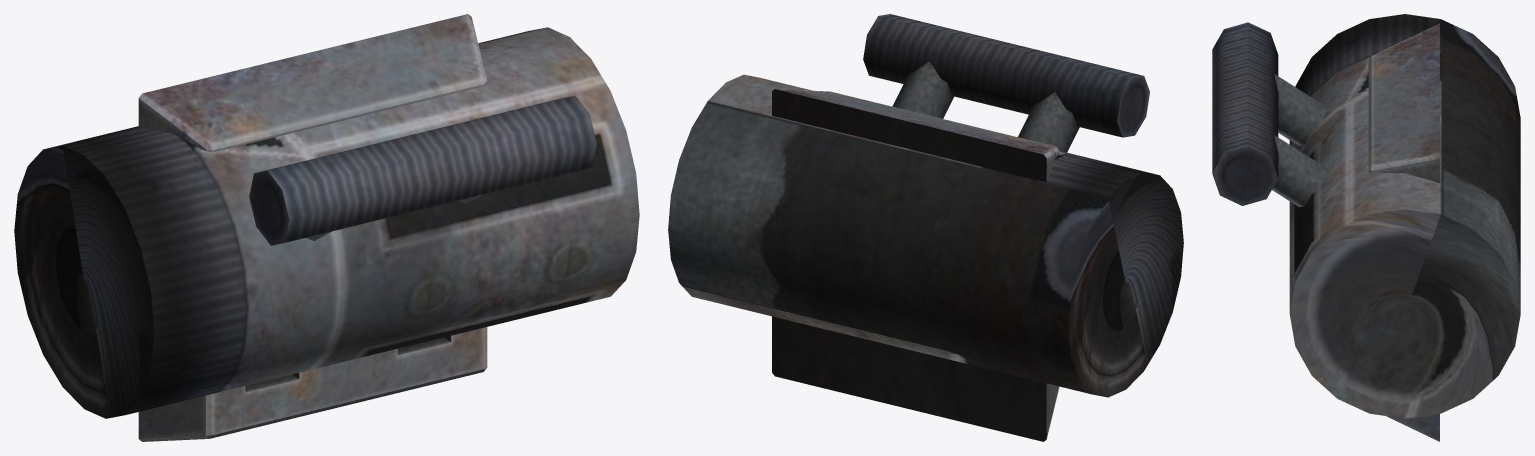
File: gameplay_power_switch.dae
3 views of the same model, side by side, from view 1: azimuth 30°, elevation 25°; view 2: azimuth 150°, elevation 25°; view 3: azimuth 270°, elevation 25° (orthographic). The views are drawn at different scales.
Parts seen in each view (by area): view 1: _joint_hinge_lever_holder_0_75_nocollide_joint1, holder, lever; view 2: _joint_hinge_lever_holder_0_75_nocollide_joint1, holder, lever; view 3: _joint_hinge_lever_holder_0_75_nocollide_joint1, lever, holder.
Boxes of the visible parts, <box> form: _joint_hinge_lever_holder_0_75_nocollide_joint1: <box>14,27,639,418</box>; holder: <box>138,14,487,441</box>; lever: <box>249,95,596,245</box>; _joint_hinge_lever_holder_0_75_nocollide_joint1: <box>668,74,1183,397</box>; holder: <box>772,89,1059,441</box>; lever: <box>863,14,1149,152</box>; _joint_hinge_lever_holder_0_75_nocollide_joint1: <box>1289,14,1520,418</box>; lever: <box>1212,22,1328,207</box>; holder: <box>1368,23,1439,441</box>.
Size of what is drawn, in the model's own units: 0.4 by 0.279 by 0.267.
